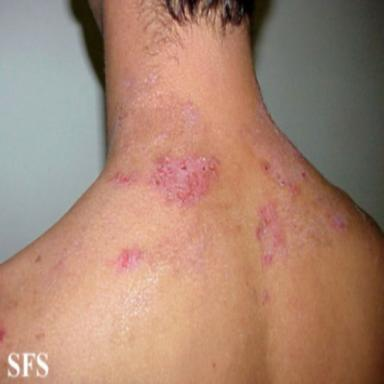Hailey-Hailey-Disease: (107, 146, 220, 210), (255, 200, 287, 274), (260, 156, 302, 197), (114, 244, 145, 274), (324, 204, 353, 234)
